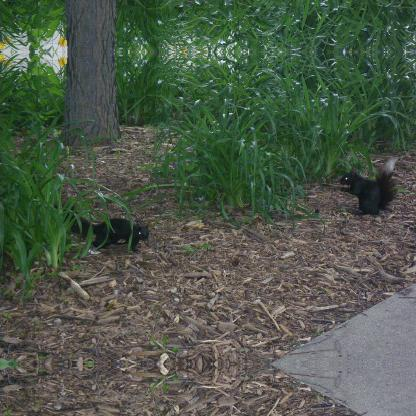Squirrel: (52, 201, 148, 252), (330, 155, 400, 213)
